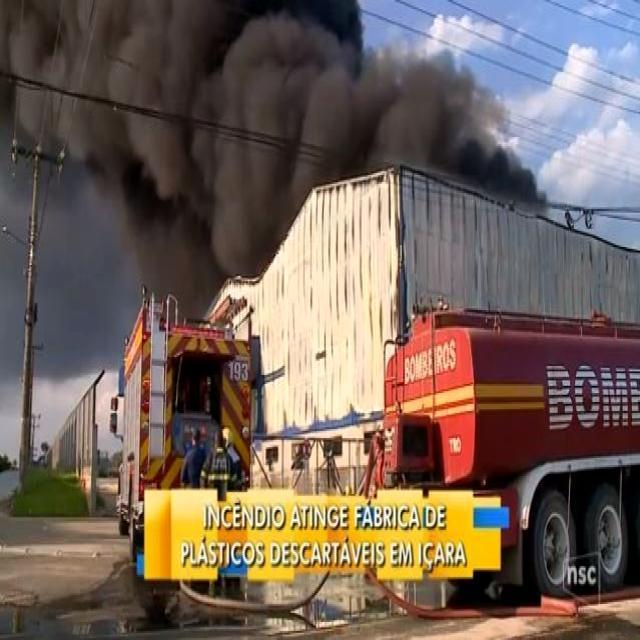Smoke: (0, 0, 317, 283), (333, 33, 535, 196)
